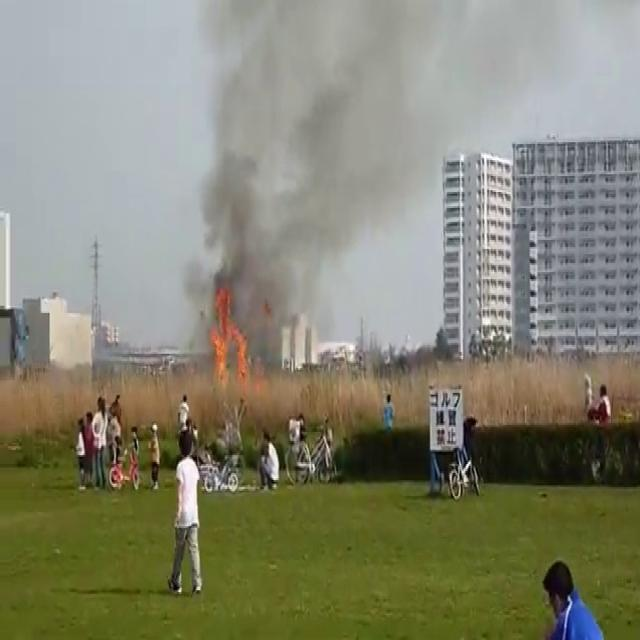Fire: (205, 281, 252, 391)
Smoke: (184, 0, 568, 354)
